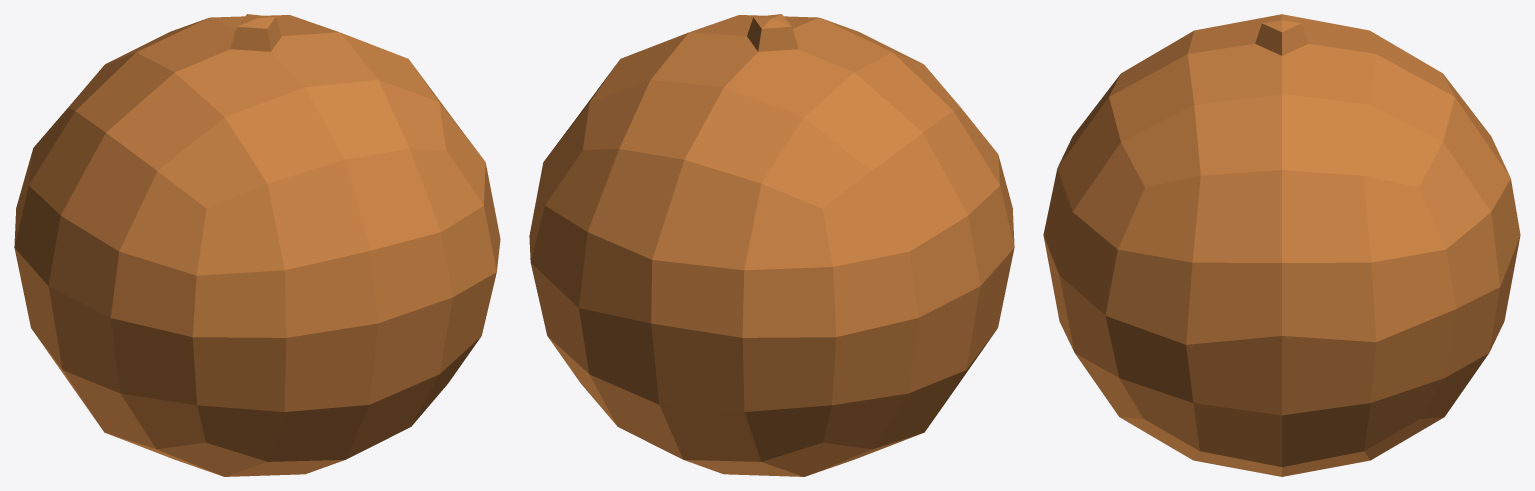
File: Orange_Crop.glb
3 renders of one model, left to right at view 1: azimuth 30°, elevation 25°; view 2: azimuth 150°, elevation 25°; view 3: azimuth 270°, elevation 25°, orthographic.
Visible parts, largest first — view 1: Orange_Crop; view 2: Orange_Crop; view 3: Orange_Crop.
Boxes of the visible parts, left/top/right/bottom form: Orange_Crop: left=14, top=14, right=500, bottom=476; Orange_Crop: left=529, top=14, right=1014, bottom=476; Orange_Crop: left=1043, top=14, right=1520, bottom=476.
Bounding box in the file's own units: 0.1513 × 0.1508 × 0.1513.
